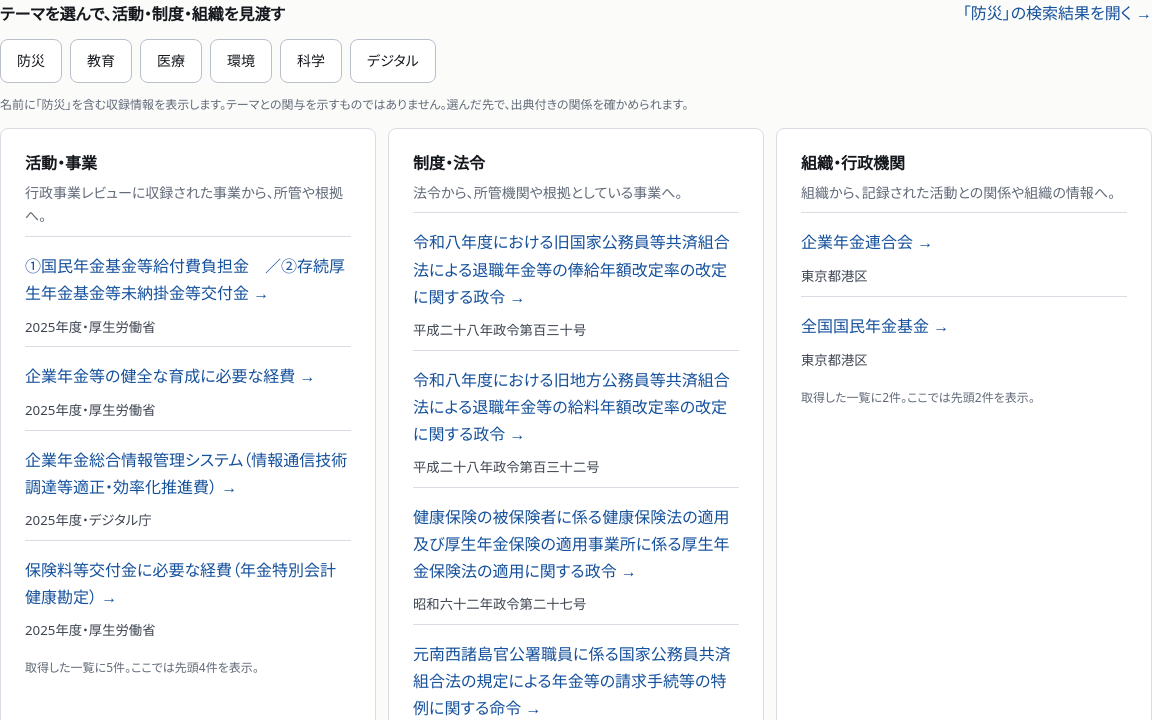
Test case: 活動・制度・組織の入口 › テーマを変えると前の候補を消し、取得範囲の0件を全KGの不在と混同しない
The width and height of the screenshot is (1152, 720).
Click the button "教育" at (101, 61), box x1=70 y1=39 x2=132 y2=83
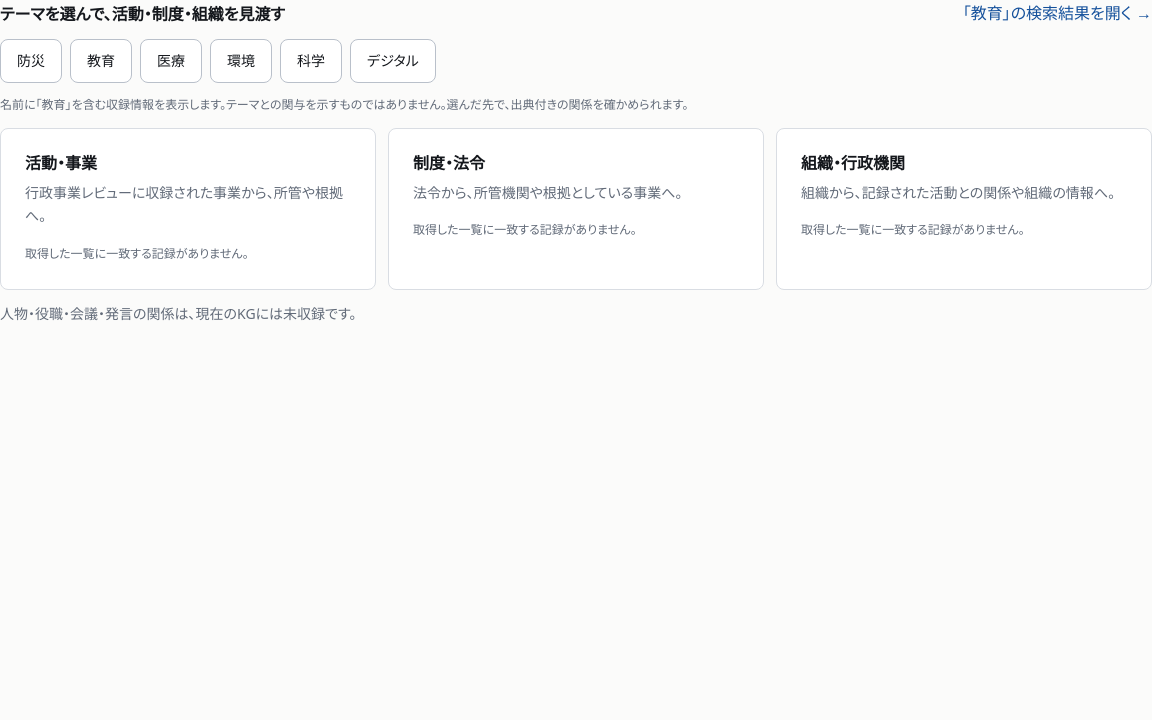
Check: the text "取得した一覧に一致する記録がありません。" is shown 3 times, box x1=25 y1=245 x2=249 y2=262; x1=413 y1=221 x2=637 y2=238; x1=801 y1=221 x2=1025 y2=238
